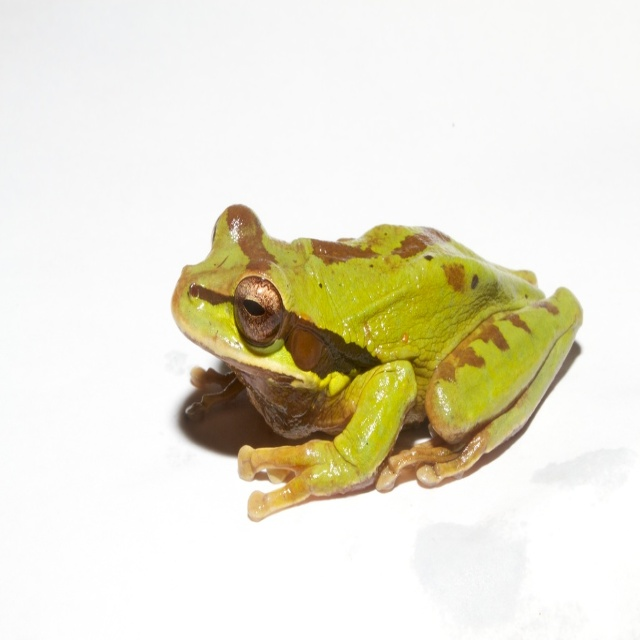Frog: (170, 204, 582, 521)
